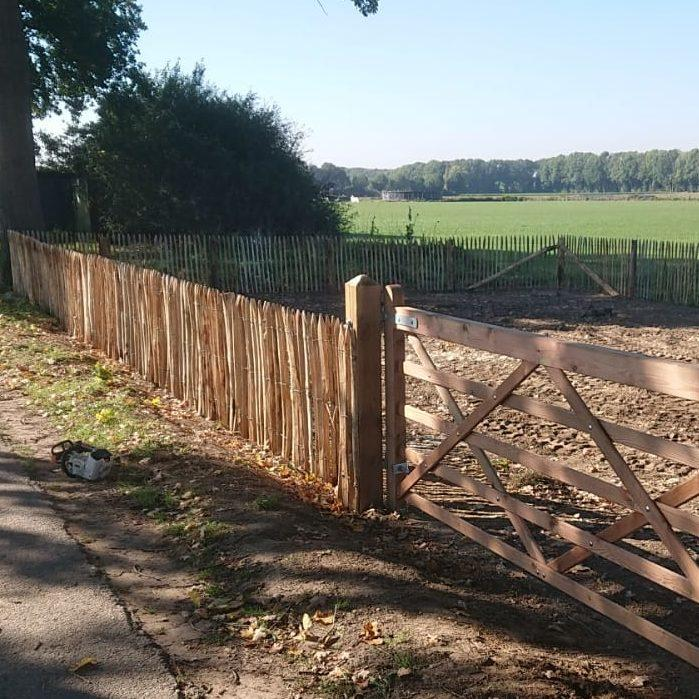obstacle: (0, 3, 699, 696)
